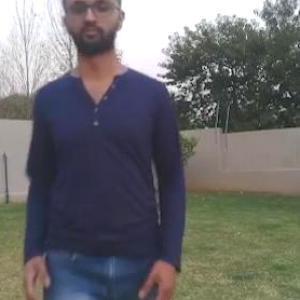follow: (49, 0, 164, 299)
